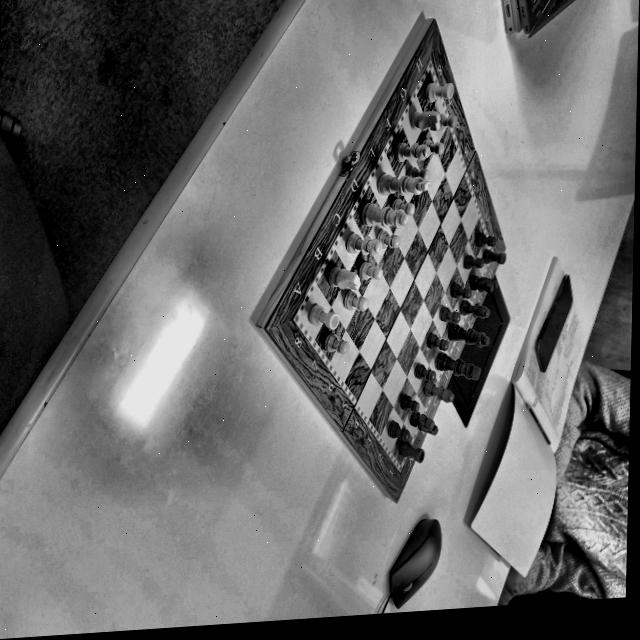black-bishop: (423, 380, 453, 406), (460, 300, 490, 320)
black-king: (433, 351, 481, 386)
black-knight: (409, 412, 437, 438), (469, 273, 497, 295)
black-pawn: (387, 418, 410, 444), (425, 333, 448, 353), (439, 306, 461, 325), (413, 364, 435, 383), (399, 394, 419, 414), (462, 253, 483, 271), (450, 283, 470, 301), (474, 233, 495, 248)
black-queen: (446, 324, 489, 351)
black-rook: (398, 441, 425, 465), (482, 248, 506, 266)
white-bishop: (343, 230, 382, 260), (394, 139, 429, 165)
white-king: (375, 171, 430, 198)
white-knight: (327, 266, 360, 294), (409, 111, 439, 134)
white-pawn: (321, 332, 348, 359), (341, 290, 368, 315), (418, 139, 444, 161), (375, 230, 400, 252), (358, 261, 383, 282), (390, 198, 415, 217), (438, 111, 456, 133), (404, 168, 429, 183)
white-queen: (360, 201, 406, 234)
white-rook: (307, 303, 339, 333), (425, 81, 453, 104)
